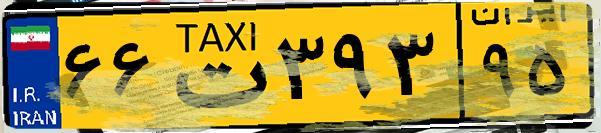3: (270, 28, 330, 110), (385, 28, 445, 110)
5: (525, 38, 570, 115)
6: (57, 26, 110, 100), (110, 28, 158, 98)
9: (330, 28, 385, 110), (475, 38, 525, 113)
ت: (158, 12, 270, 120)
